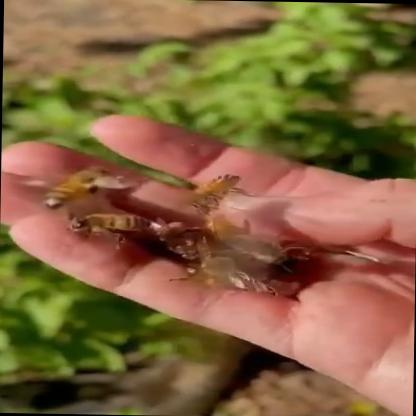bee: (15, 155, 367, 306)
